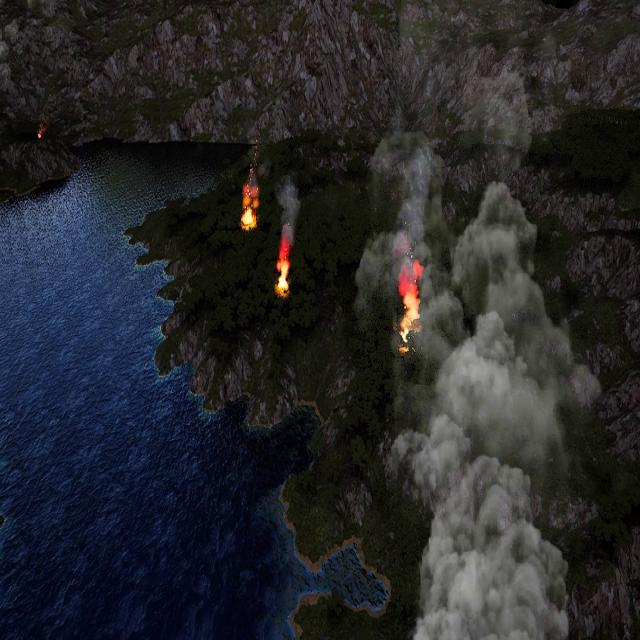fire: (398, 255, 421, 352), (276, 244, 291, 295), (241, 206, 257, 229), (38, 124, 46, 140)
smoke: (351, 109, 595, 640), (276, 171, 300, 244), (244, 170, 258, 203)
